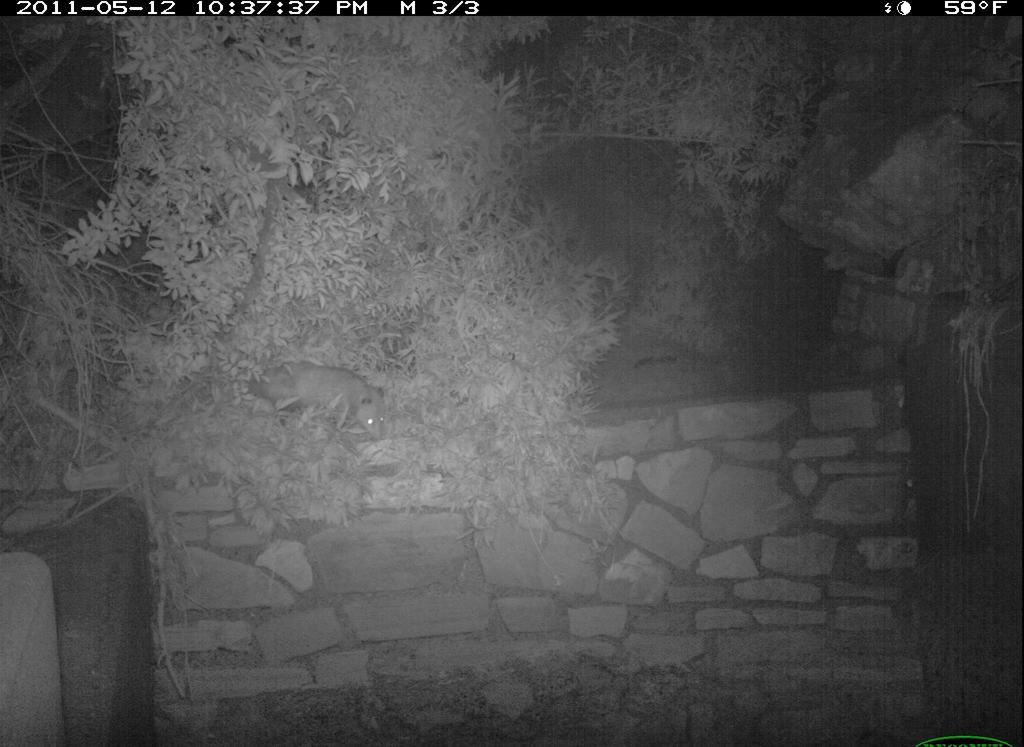opossum: (236, 355, 397, 442)
